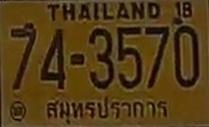0: (172, 26, 198, 86)
3: (88, 27, 113, 88)
4: (40, 28, 65, 88)
5: (116, 26, 141, 88)
7: (10, 22, 36, 89), (144, 26, 168, 87)
SPK: (45, 96, 172, 124)
